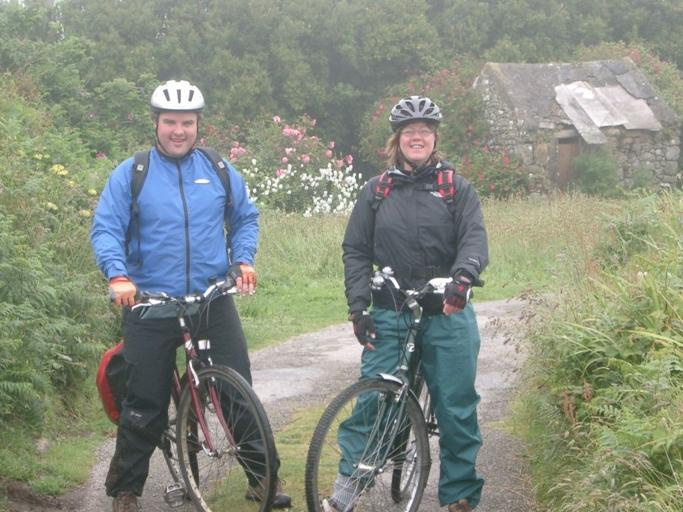non-vehicle: (304, 265, 484, 511), (109, 275, 277, 511)
